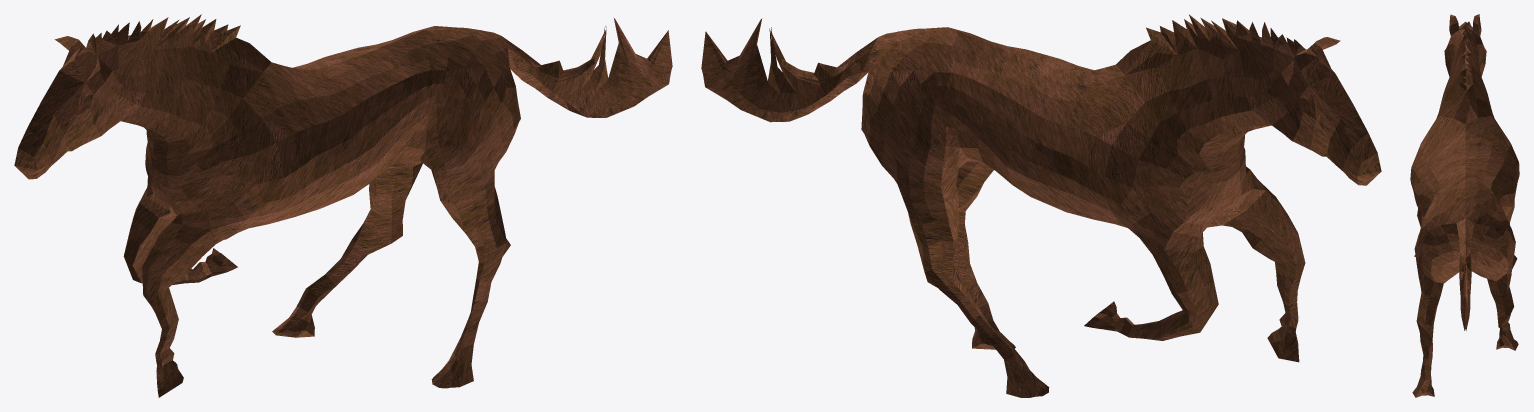
3 views of the same model, side by side, from view 1: azimuth 30°, elevation 25°; view 2: azimuth 150°, elevation 25°; view 3: azimuth 270°, elevation 25° (orthographic). The views are drawn at different scales.
Visible parts, largest first — view 1: run_0; view 2: run_0; view 3: run_0.
Part boxes in pixels (x1=…): run_0: x1=14, y1=14, x2=672, y2=397; run_0: x1=701, y1=14, x2=1381, y2=397; run_0: x1=1410, y1=14, x2=1519, y2=397.
Size of the model in its own units: 3.28 by 1.94 by 0.7093.
1 material, 1 textured.
